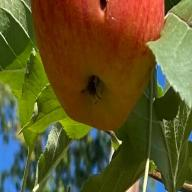Apples: (31, 0, 165, 131)
